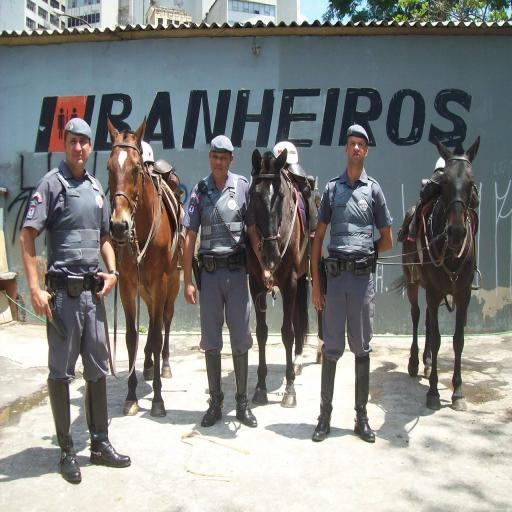horse: (104, 111, 184, 419), (397, 136, 482, 412), (238, 144, 320, 410)
